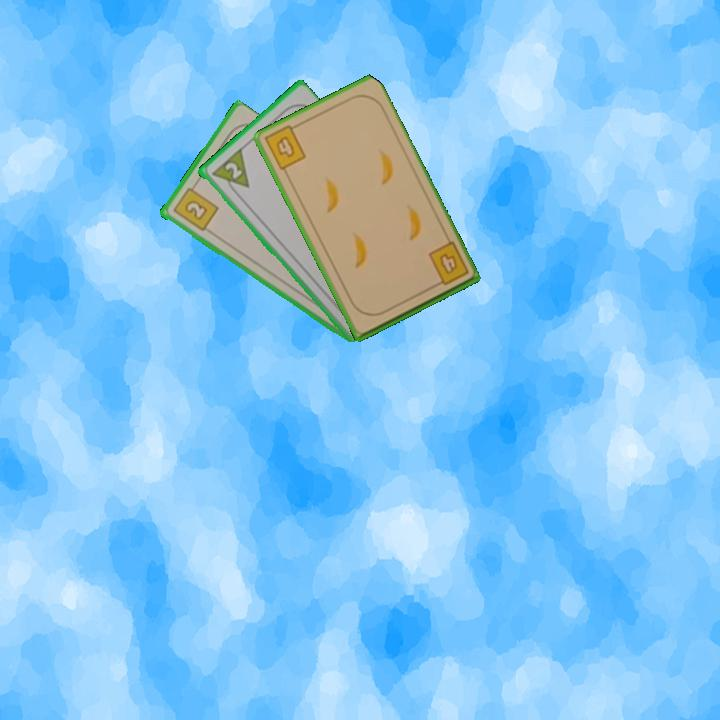2b: (169, 180, 221, 234)
2p: (208, 146, 252, 199)
4b: (261, 120, 309, 173), (424, 238, 472, 290)
